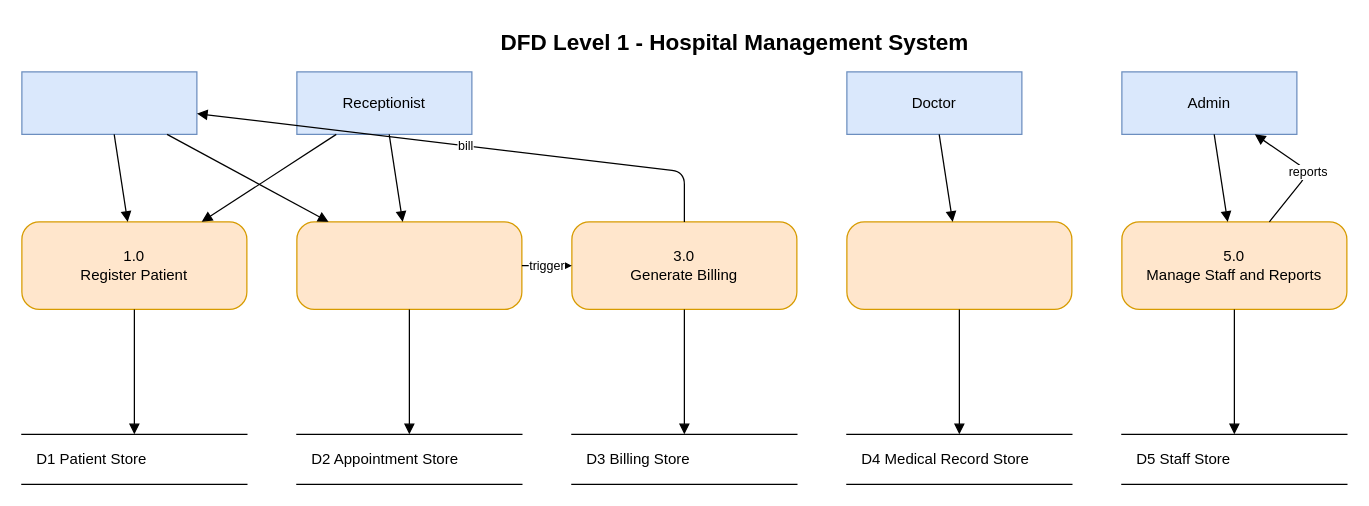
This 1369x506 diagram has some shape labels left out. The box of each missing label's shape, as (x1, y1, x2, y2) in pixels:
2.0 Manage Appointment: (296, 221, 522, 309)
4.0 Manage Medical Records: (846, 221, 1072, 309)
Patient: (21, 71, 197, 134)
